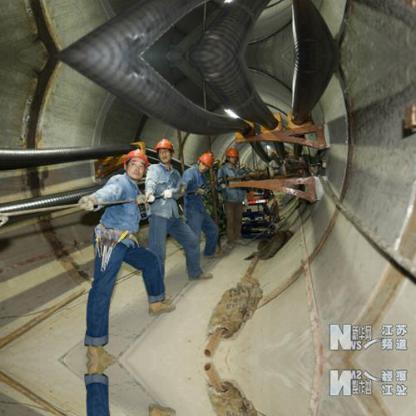helmet: (120, 145, 151, 168), (195, 148, 217, 168), (153, 135, 174, 153), (223, 144, 241, 159)
